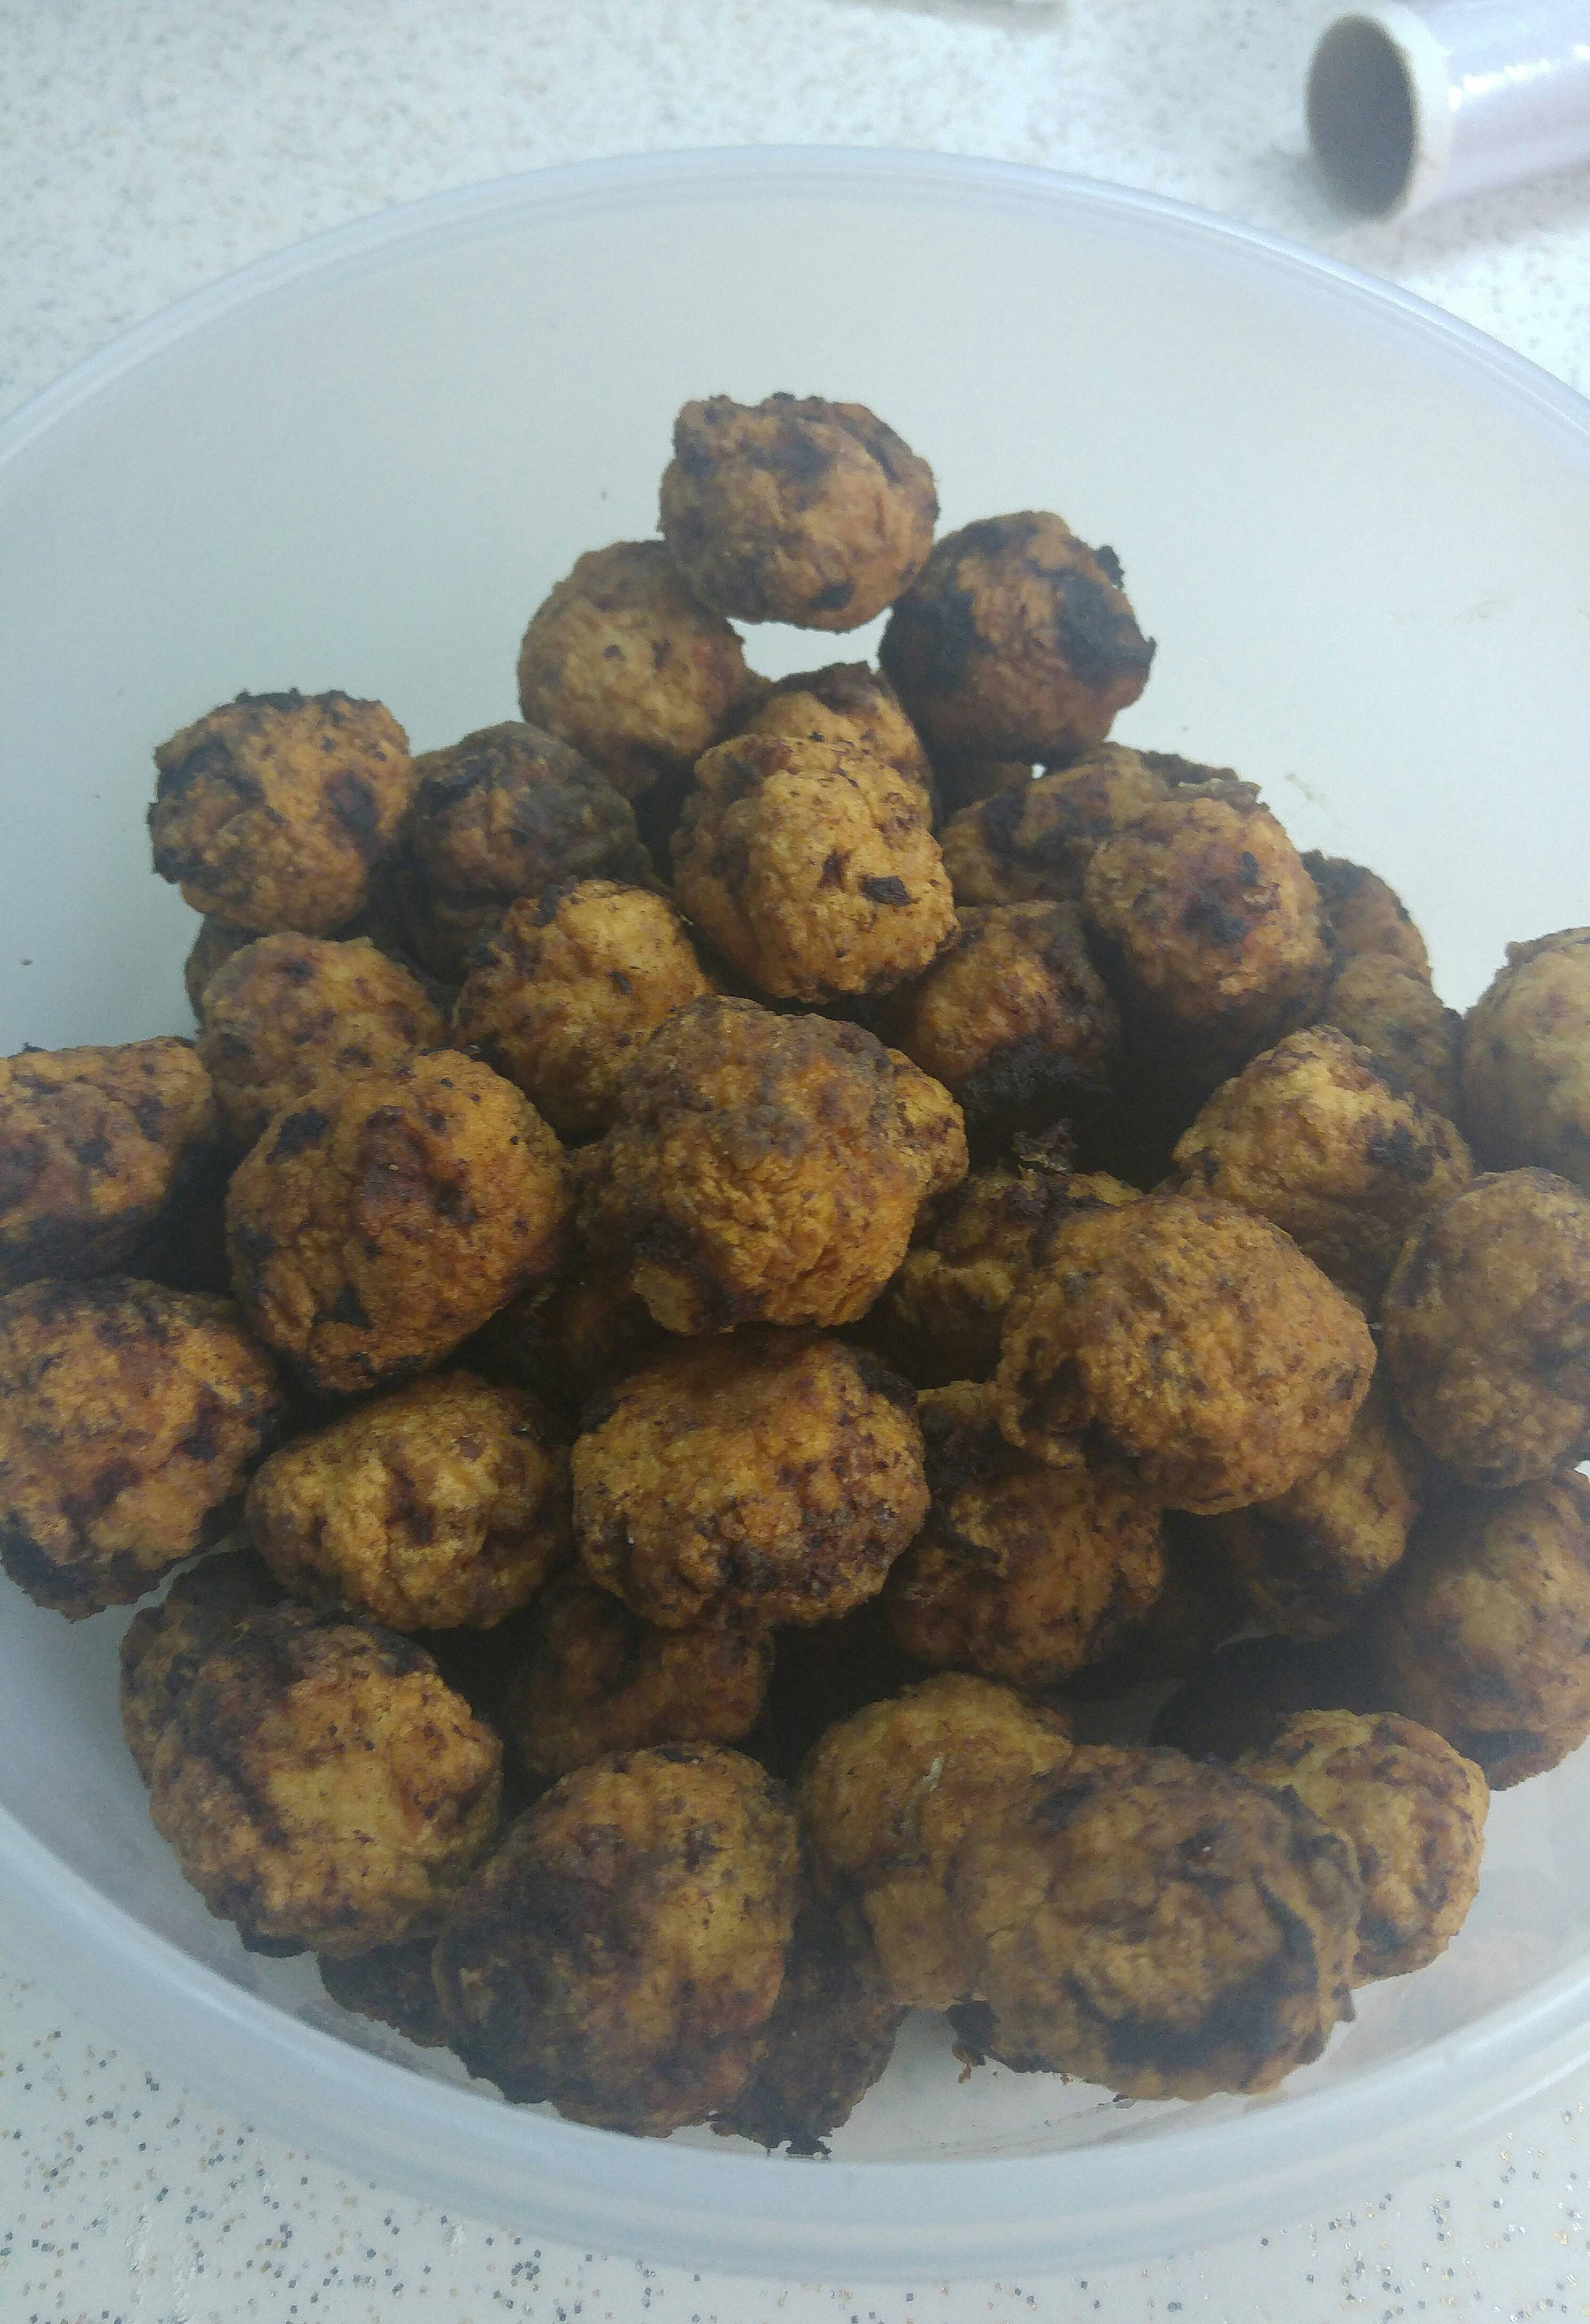meatballs: (201, 736, 1436, 2066)
